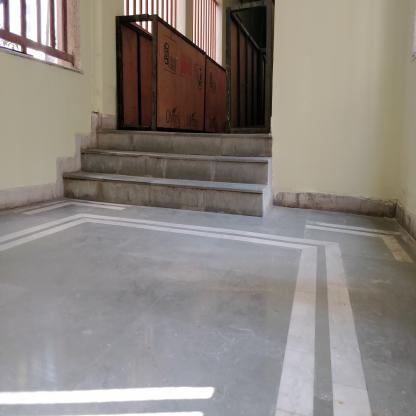stairs: (98, 127, 264, 220)
